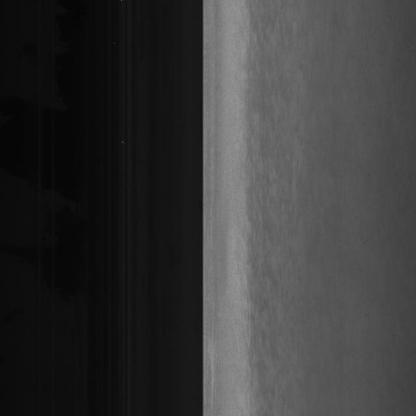silk_spot: (231, 134, 276, 355)
